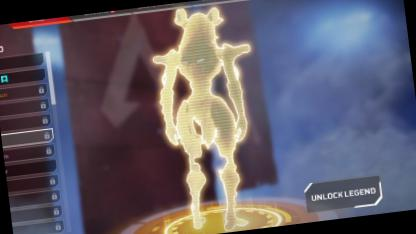Target: (142, 1, 262, 196)
